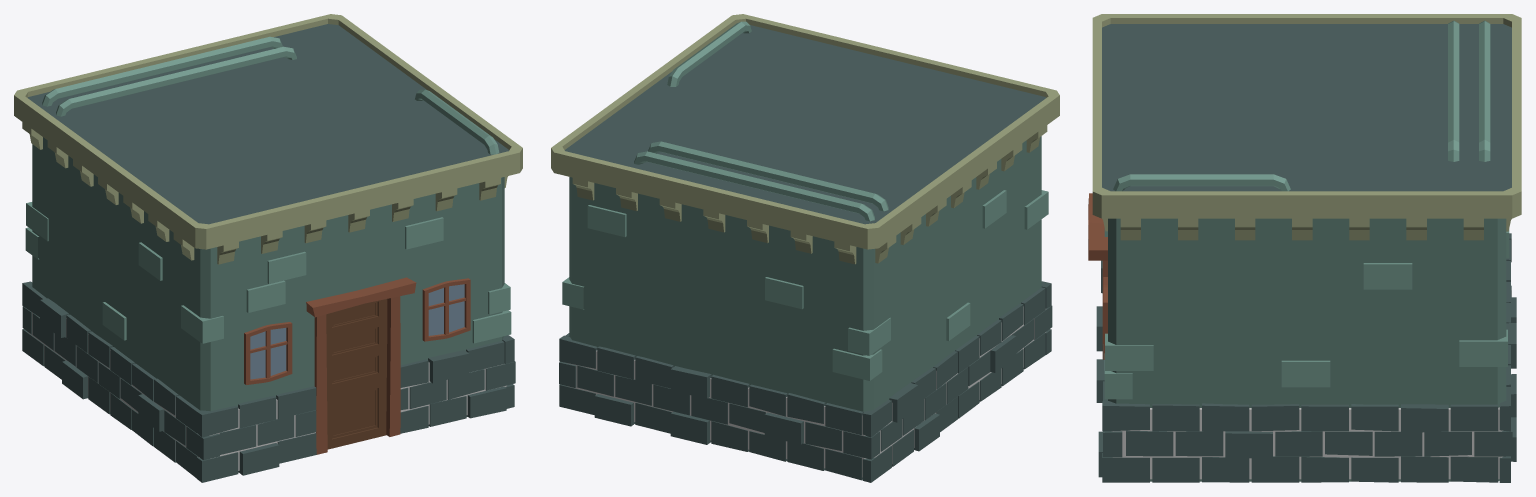
The model's file is 1Story.glb.
The picture shows the model from 3 angles, left to right: view 1: azimuth 30°, elevation 25°; view 2: azimuth 150°, elevation 25°; view 3: azimuth 270°, elevation 25°; orthographic projection. The views are drawn at different scales.
Visible parts, largest first — view 1: 1Story; view 2: 1Story; view 3: 1Story.
Part boxes in pixels (bbox=[...]): 1Story: bbox=[14, 14, 522, 482]; 1Story: bbox=[551, 14, 1059, 482]; 1Story: bbox=[1088, 14, 1521, 482].
Bounding box in the file's own units: 2.15 × 1.67 × 2.17.
Materials: 1 (1 with a texture image).
